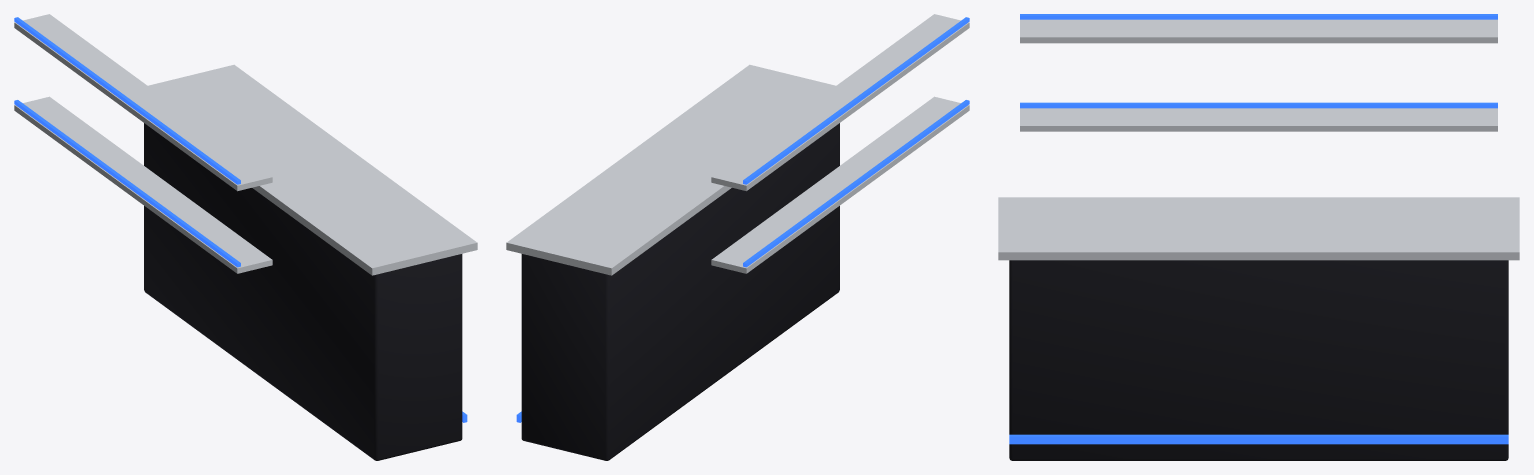
Rendered from bar_sala_reservada.glb.
3 renders of one model, left to right at view 1: azimuth 30°, elevation 25°; view 2: azimuth 150°, elevation 25°; view 3: azimuth 270°, elevation 25°, orthographic. The views are drawn at different scales.
Parts seen in each view (by area): view 1: Bar_Sala_Balcao, Bar_Sala_Tampo, Bar_Sala_Prateleira, Bar_Sala_Prateleira.001, Bar_Sala_Prateleira_LED, Bar_Sala_Prateleira_LED.001; view 2: Bar_Sala_Balcao, Bar_Sala_Tampo, Bar_Sala_Prateleira, Bar_Sala_Prateleira.001, Bar_Sala_Prateleira_LED, Bar_Sala_Prateleira_LED.001; view 3: Bar_Sala_Balcao, Bar_Sala_Tampo, Bar_Sala_Prateleira.001, Bar_Sala_Prateleira, Bar_Sala_LED, Bar_Sala_Prateleira_LED, Bar_Sala_Prateleira_LED.001.
Boxes of the visible parts, x1,y1,x2,y2 form: Bar_Sala_Balcao: (144,123,462,460); Bar_Sala_Tampo: (148,64,477,275); Bar_Sala_Prateleira: (14,96,272,273); Bar_Sala_Prateleira.001: (14,14,272,191); Bar_Sala_Prateleira_LED: (14,100,240,267); Bar_Sala_Prateleira_LED.001: (14,17,240,184); Bar_Sala_Balcao: (521,123,839,460); Bar_Sala_Tampo: (506,64,835,275); Bar_Sala_Prateleira: (711,96,969,273); Bar_Sala_Prateleira.001: (711,14,969,191); Bar_Sala_Prateleira_LED: (743,100,969,267); Bar_Sala_Prateleira_LED.001: (743,17,969,184); Bar_Sala_Balcao: (1009,260,1508,460); Bar_Sala_Tampo: (998,197,1519,260); Bar_Sala_Prateleira.001: (1020,19,1497,43); Bar_Sala_Prateleira: (1020,108,1497,131); Bar_Sala_LED: (1009,434,1508,444); Bar_Sala_Prateleira_LED: (1020,102,1497,108); Bar_Sala_Prateleira_LED.001: (1020,14,1497,19).
Bounding box in the file's own units: 1.31 × 1.69 × 2.4.
